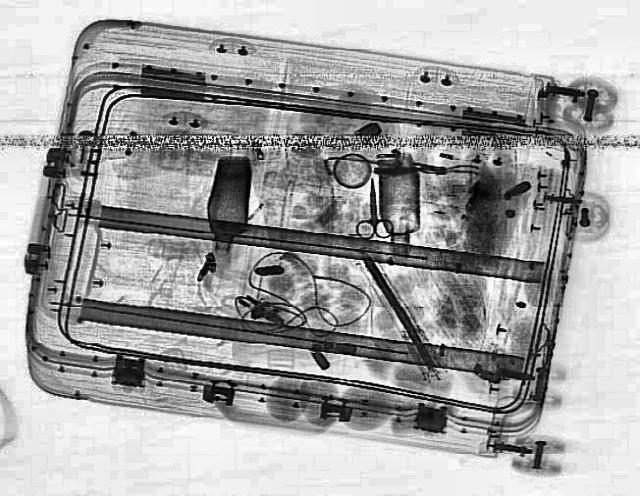Scissors: (350, 178, 392, 240)
